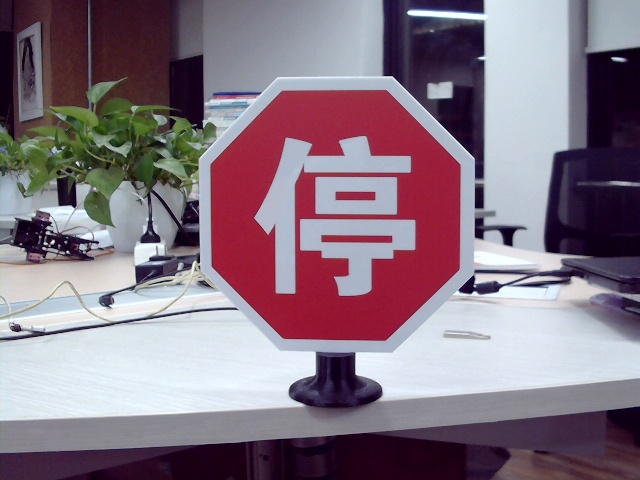stop: (251, 131, 421, 302)
